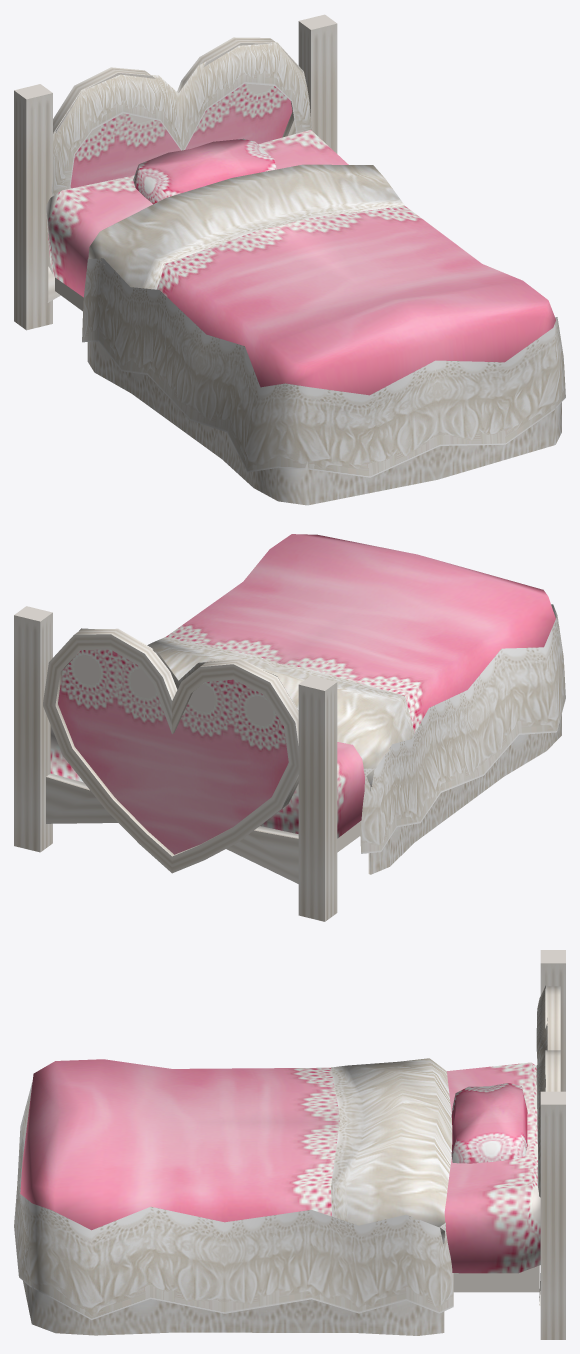
The model's file is GirlyBed_HD.fbx.
The picture shows the model from 3 angles, top to bottom: view 1: azimuth 30°, elevation 25°; view 2: azimuth 150°, elevation 25°; view 3: azimuth 270°, elevation 25°; orthographic projection.
Visible parts, largest first — view 1: GirlyBed; view 2: GirlyBed; view 3: GirlyBed.
Boxes of the visible parts, left/top/right/bottom form: GirlyBed: left=14, top=14, right=565, bottom=505; GirlyBed: left=14, top=534, right=565, bottom=921; GirlyBed: left=14, top=950, right=565, bottom=1339.
Bounding box in the file's own units: 1.27 × 0.906 × 1.91.
